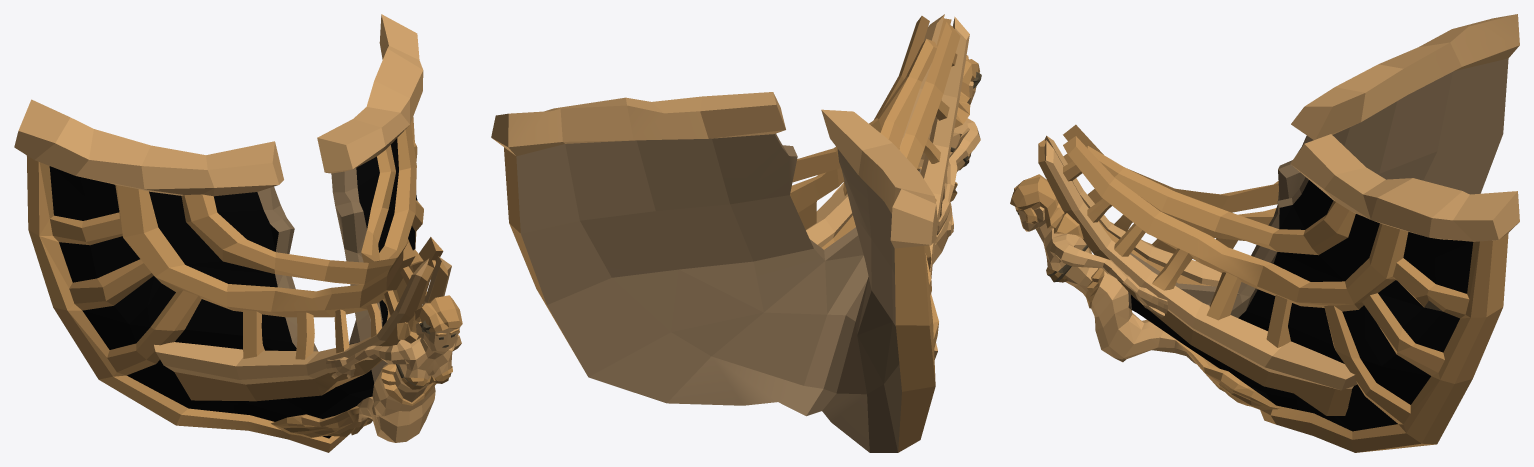
File: SM_Veh_Ship_L_Figurehead_01.fbx
The picture shows the model from 3 angles, left to right: view 1: azimuth 30°, elevation 25°; view 2: azimuth 150°, elevation 25°; view 3: azimuth 270°, elevation 25°; orthographic projection. The views are drawn at different scales.
Visible parts, largest first — view 1: SM_Veh_Ship_L_Figurehead_01; view 2: SM_Veh_Ship_L_Figurehead_01; view 3: SM_Veh_Ship_L_Figurehead_01.
Part boxes in pixels (bbox=[...]): SM_Veh_Ship_L_Figurehead_01: bbox=[14, 14, 462, 452]; SM_Veh_Ship_L_Figurehead_01: bbox=[491, 14, 981, 452]; SM_Veh_Ship_L_Figurehead_01: bbox=[1010, 14, 1519, 452].
Bounding box in the file's own units: 744 × 543 × 789.
